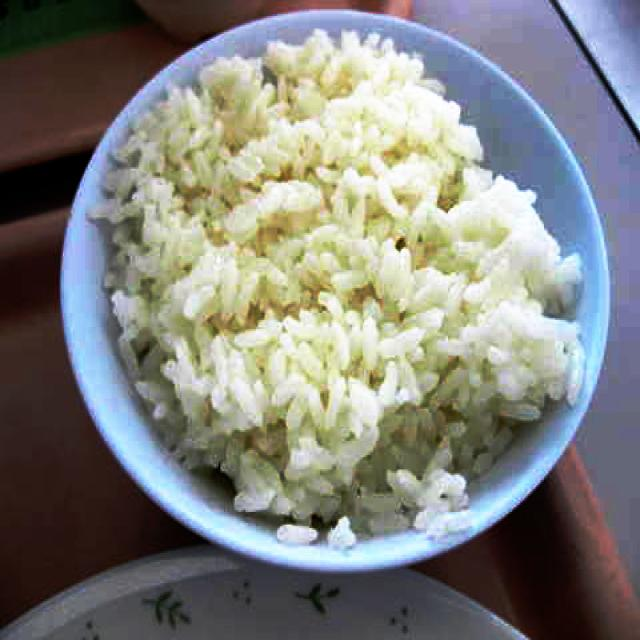rice: (83, 27, 588, 551)
